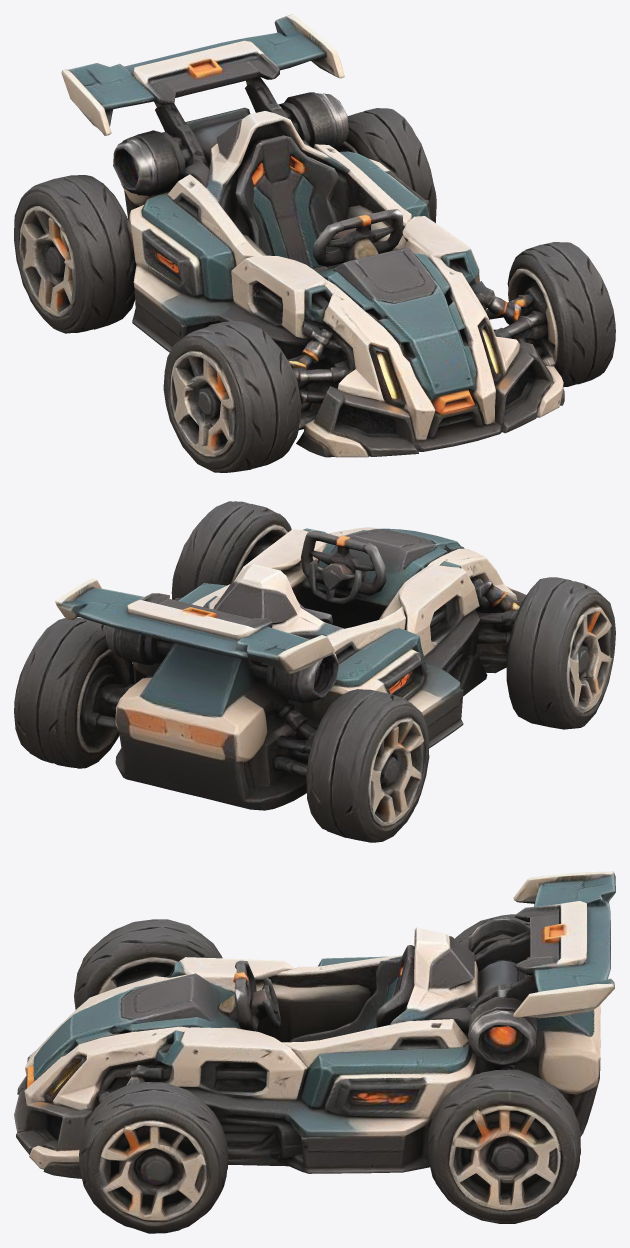
Rendered from 06-teal-courier.glb.
3 views of the same model, one above another, from view 1: azimuth 30°, elevation 25°; view 2: azimuth 150°, elevation 25°; view 3: azimuth 270°, elevation 25° (orthographic). The views are drawn at different scales.
Parts seen in each view (by area): view 1: 06-teal-courier; view 2: 06-teal-courier; view 3: 06-teal-courier.
Part boxes in pixels (<box>): 06-teal-courier: <box>14,14,615,472</box>; 06-teal-courier: <box>14,501,615,842</box>; 06-teal-courier: <box>14,871,615,1233</box>.
Bounding box in the file's own units: 1.49 × 0.7684 × 1.9.
Materials: 1 (1 with a texture image).
